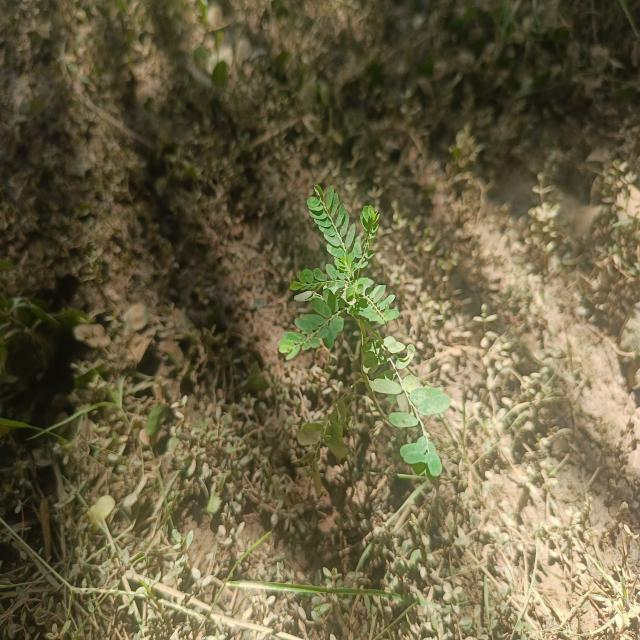weed: (272, 179, 452, 484)
